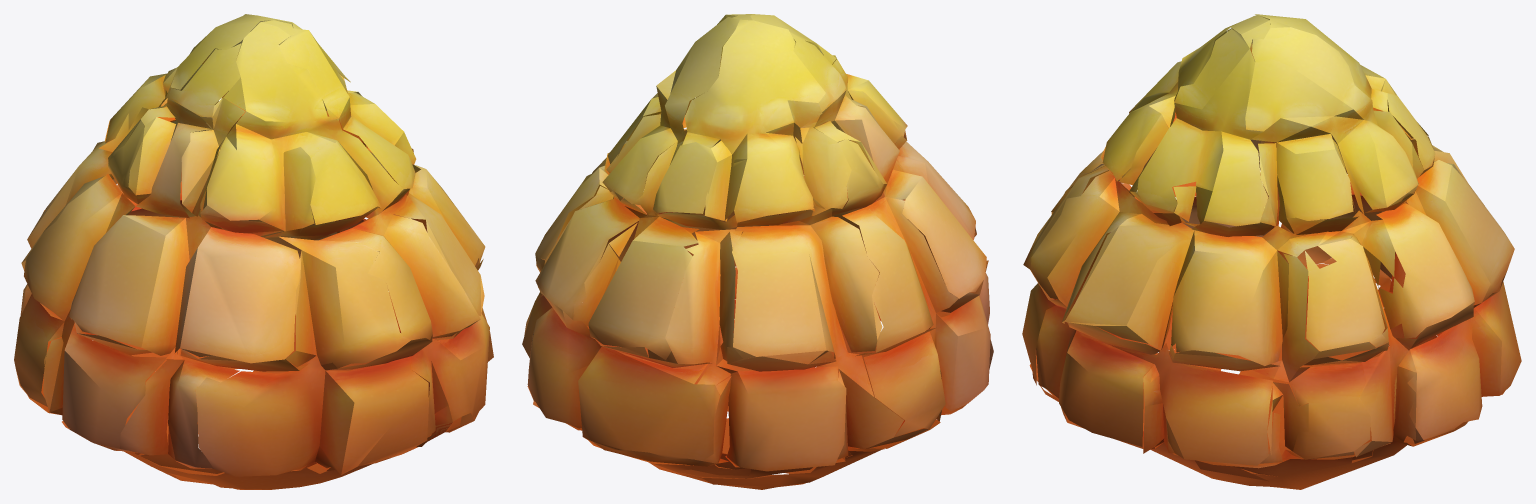
Rendered from food_pile_medium.fbx.
3 renders of one model, left to right at view 1: azimuth 30°, elevation 25°; view 2: azimuth 150°, elevation 25°; view 3: azimuth 270°, elevation 25°, orthographic.
Visible parts, largest first — view 1: food_pile_medium; view 2: food_pile_medium; view 3: food_pile_medium.
Boxes of the visible parts, left/top/right/bottom form: food_pile_medium: left=14, top=14, right=493, bottom=489; food_pile_medium: left=522, top=14, right=993, bottom=489; food_pile_medium: left=1022, top=14, right=1521, bottom=489.
Size of the model in its own units: 0.8598 by 0.8723 by 0.9079.
1 material, 1 textured.
